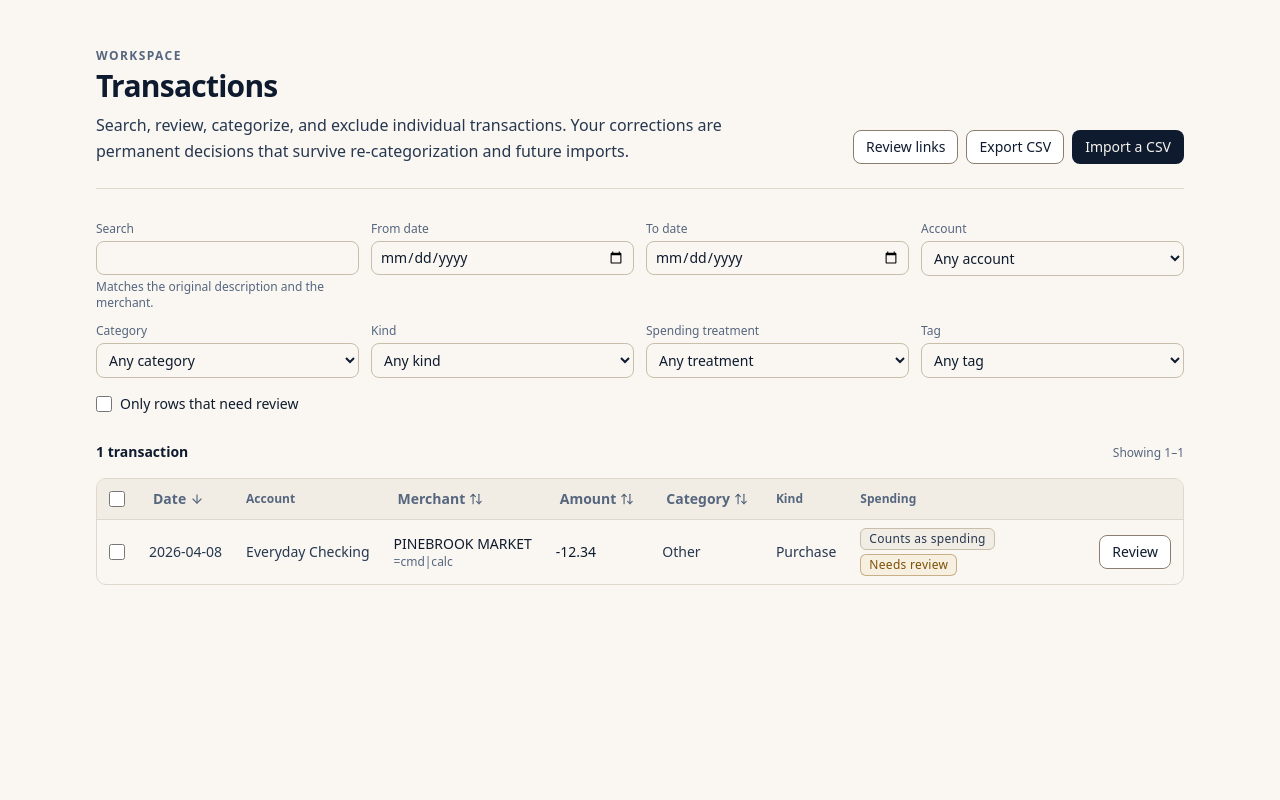
Test case: export › describes the scope, columns, and privacy before downloading
Expected: the heading "1 transaction" is shown, [96,442,188,462]
Click the button "Export CSV" at (1015, 147), box [966,130,1064,164]
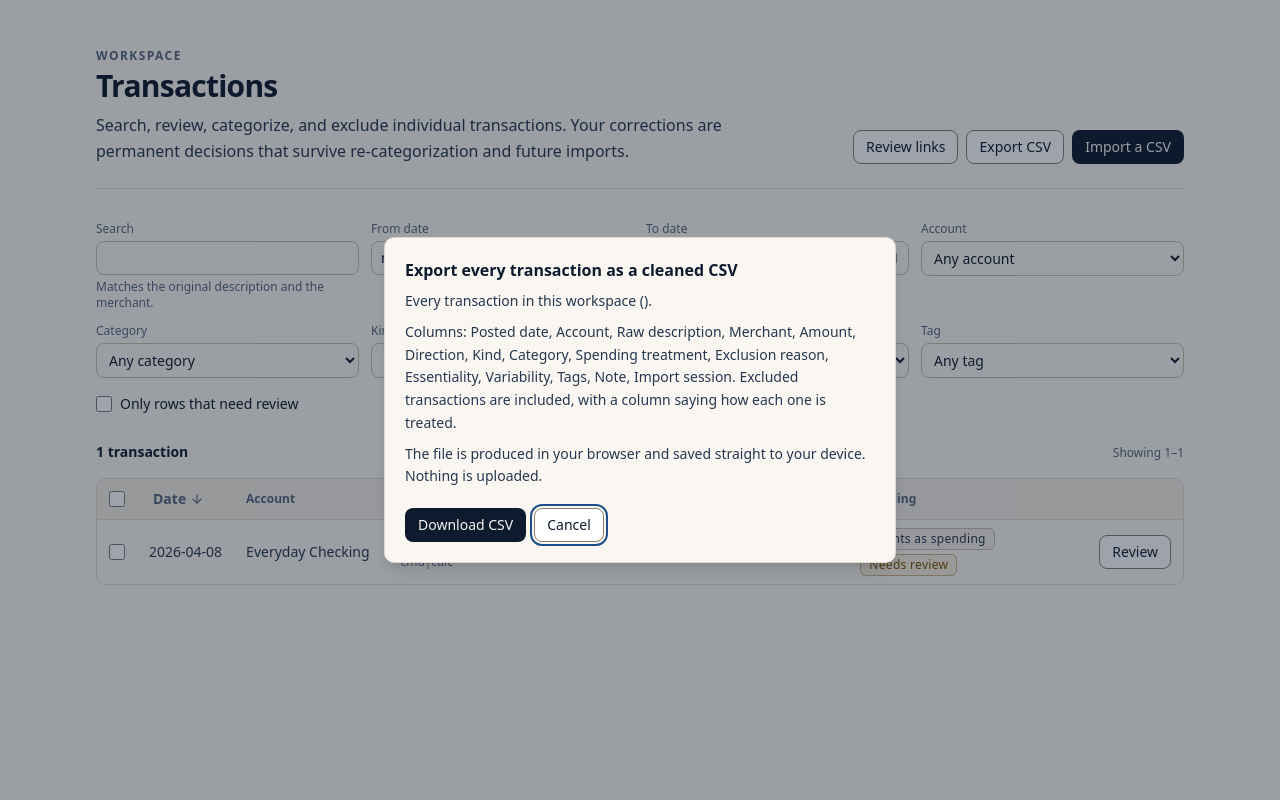
Now the text "Posted date, Account, Raw description" is shown, box [405,322,856,386]
Now the text "Nothing is uploaded" is shown, box [405,444,866,485]
Now the text "Excluded transactions are included" is shown, box [405,367,826,432]
